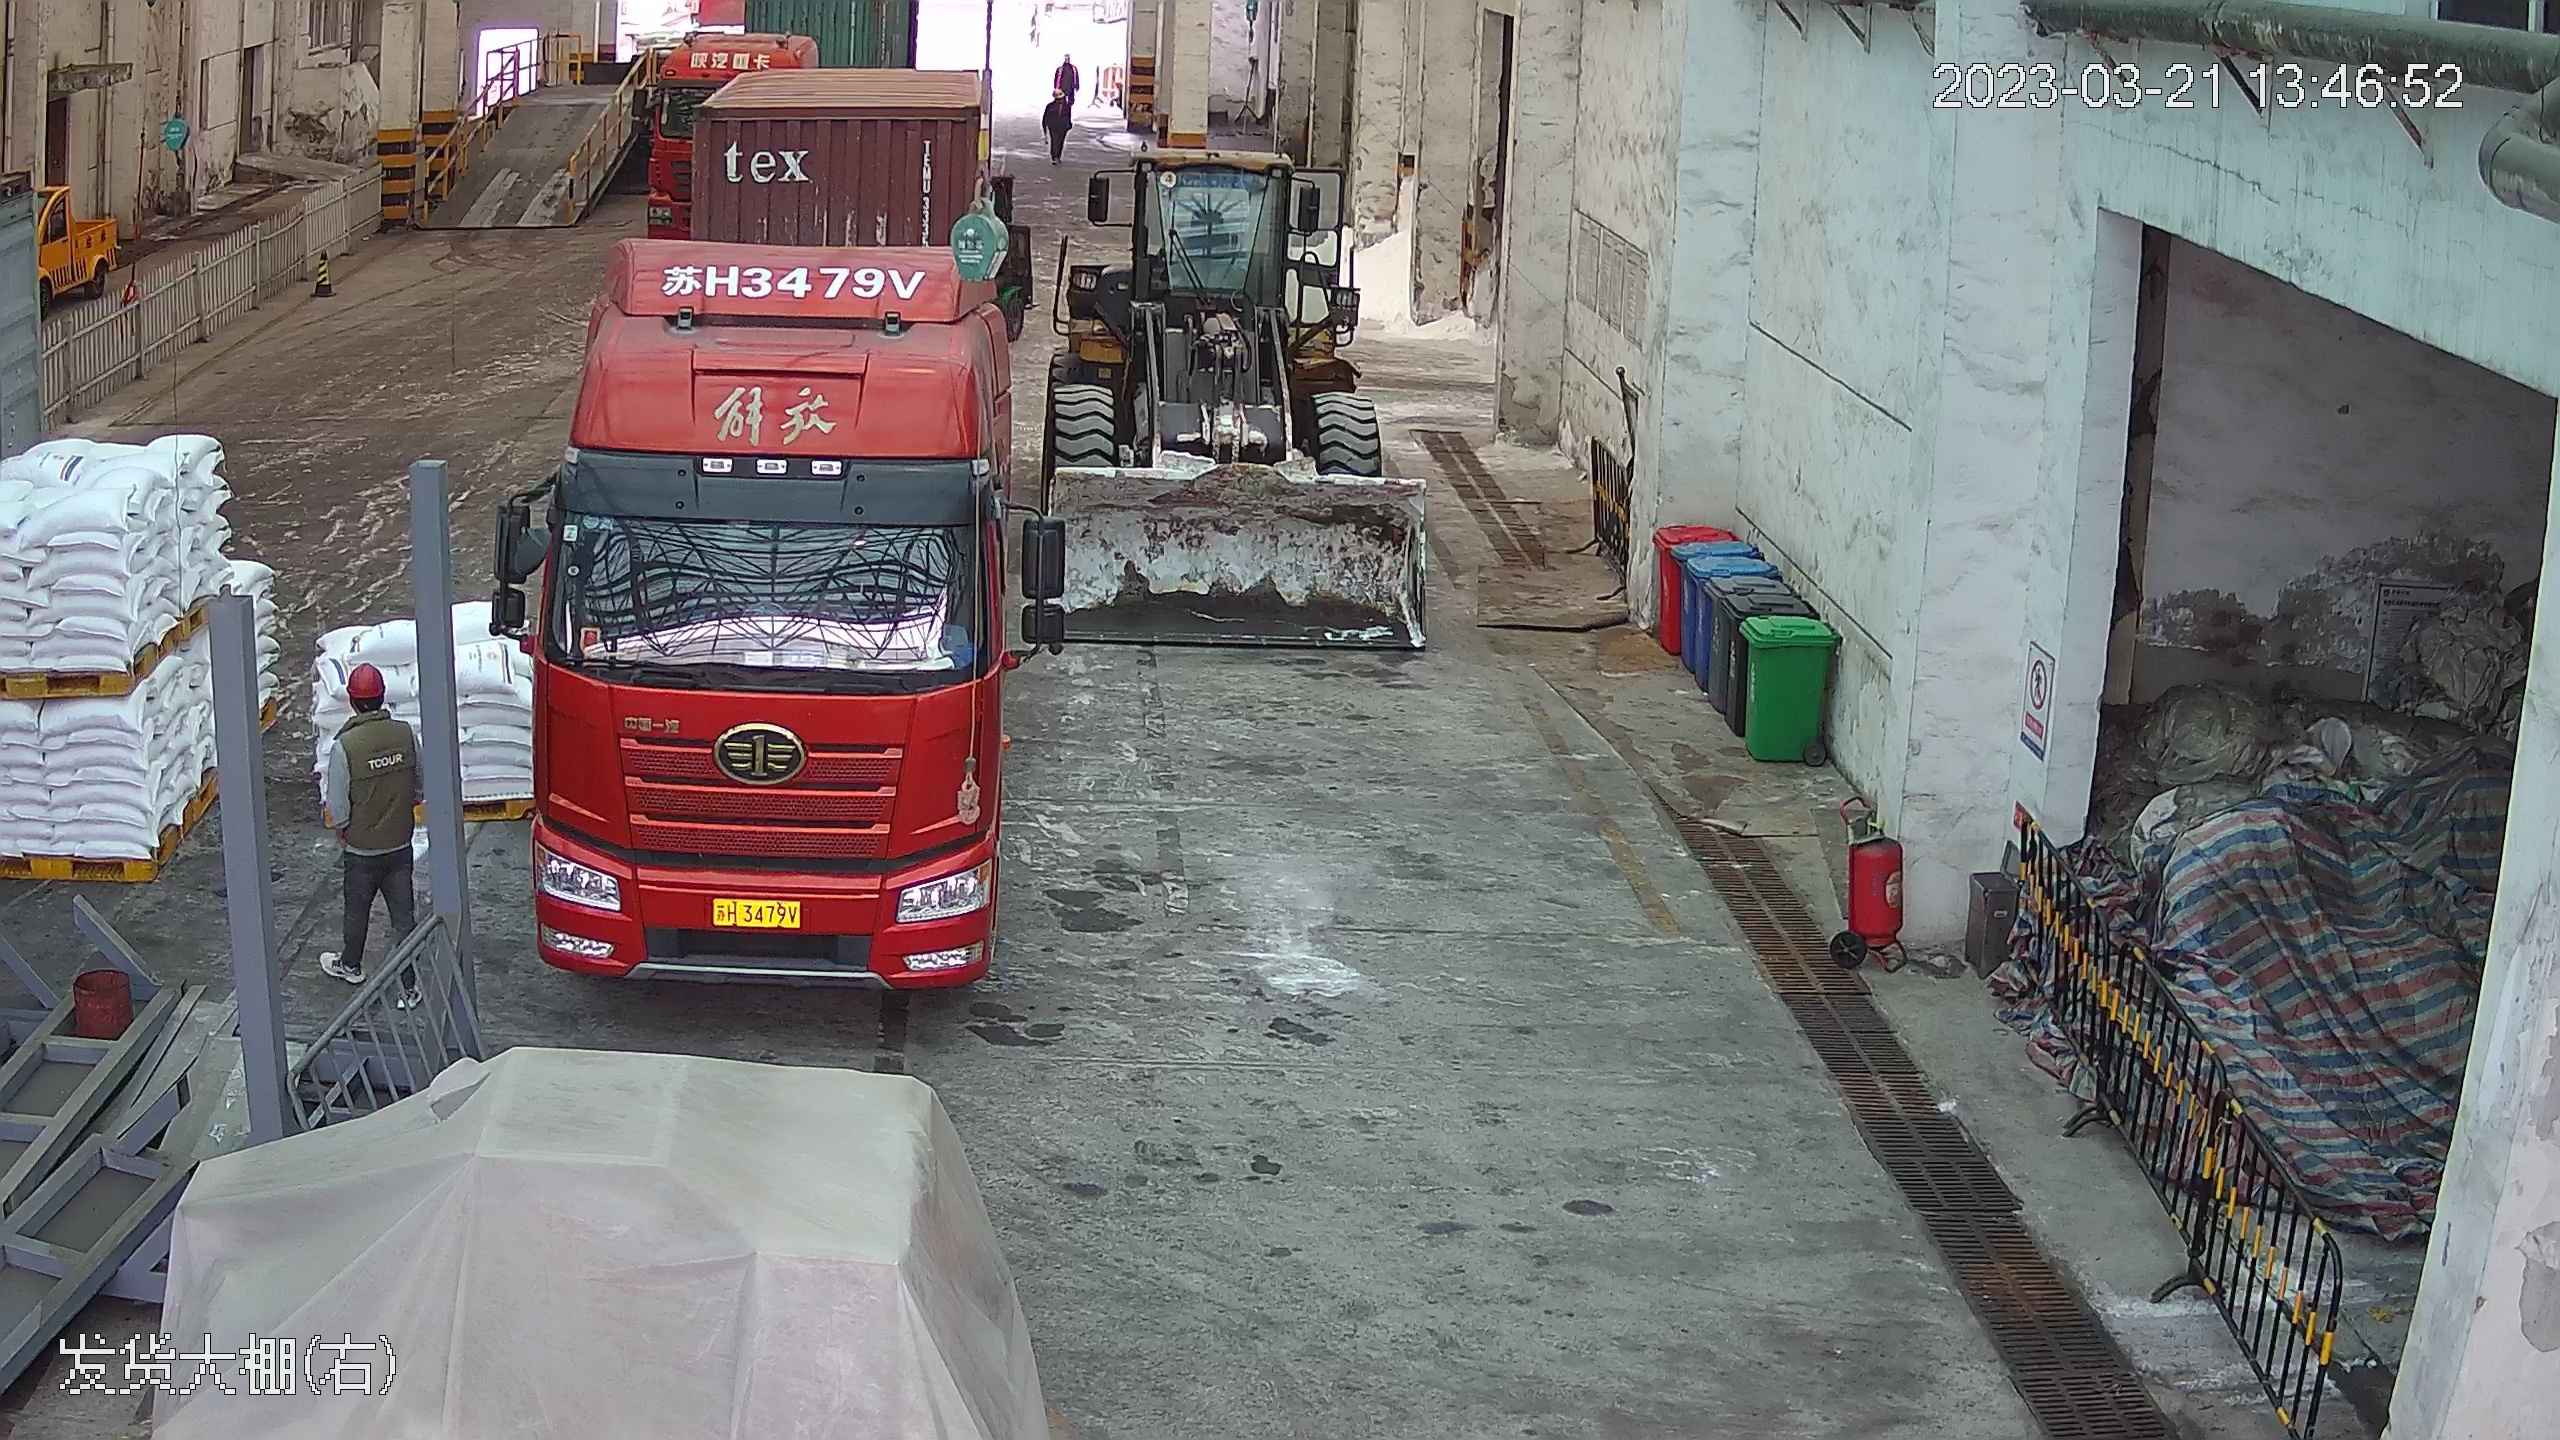head: (333, 659, 416, 759), (1045, 87, 1072, 121), (1051, 51, 1079, 83)
helmet: (332, 658, 416, 756), (343, 657, 387, 698), (1051, 87, 1064, 99), (1063, 53, 1072, 62)
people: (321, 655, 426, 978), (1039, 50, 1082, 159), (1040, 90, 1074, 166)
truck: (507, 13, 1039, 988)
